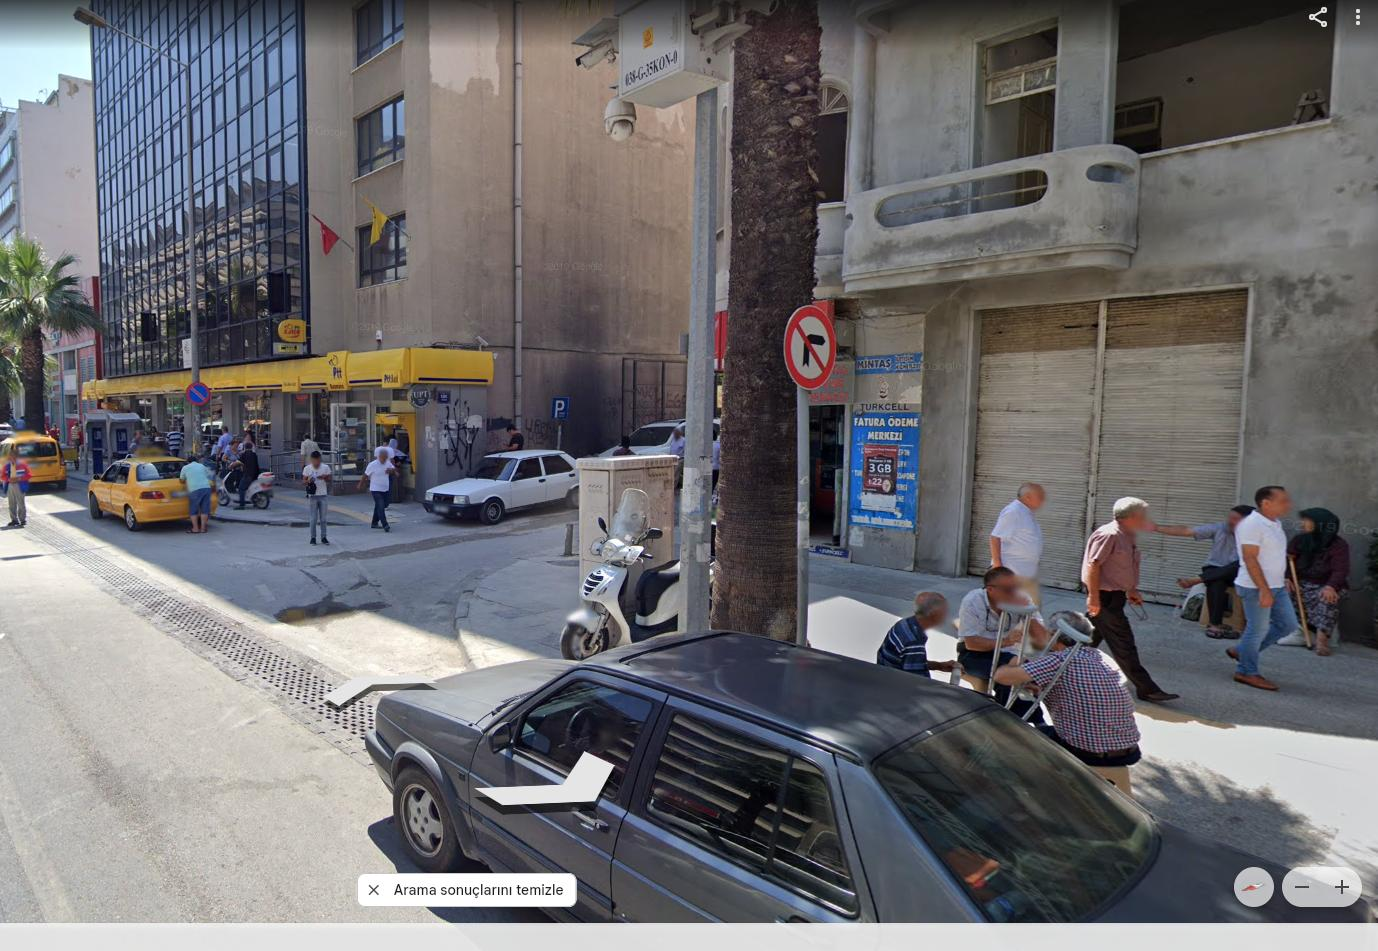rightturnsareforbidden: (784, 307, 838, 381)
